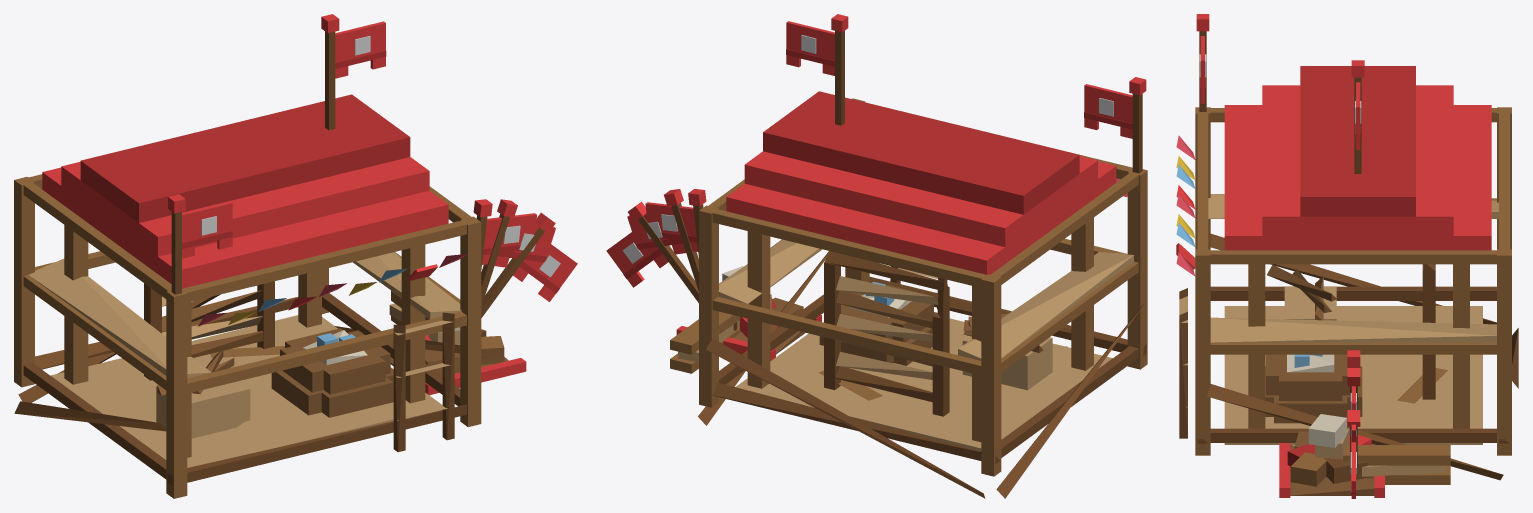
The model's file is robin-research.glb.
3 renders of one model, left to right at view 1: azimuth 30°, elevation 25°; view 2: azimuth 150°, elevation 25°; view 3: azimuth 270°, elevation 25°, orthographic. The views are drawn at different scales.
Visible parts, largest first — view 1: scaffold-mesh, built-mesh, dismantle-50-mesh, dismantle-75-mesh, dismantle-25-mesh, banner, scaffold-banner, dismantle-25-banner, flag-pole, dismantle-50-banner, dismantle-75-banner, dismantle-25-flag-pole (+2 smaller); view 2: built-mesh, scaffold-mesh, dismantle-50-mesh, dismantle-75-mesh, dismantle-25-mesh, banner, scaffold-banner, dismantle-25-banner, dismantle-75-banner, flag-pole, scaffold-flag-pole, dismantle-25-flag-pole (+2 smaller); view 3: built-mesh, scaffold-mesh, dismantle-50-mesh, dismantle-75-mesh, dismantle-25-mesh, flag-pole, scaffold-flag-pole, scaffold-banner, banner.
Part boxes in pixels (x1=…): scaffold-mesh: x1=14, y1=174, x2=481, y2=498; built-mesh: x1=42, y1=94, x2=448, y2=417; dismantle-50-mesh: x1=50, y1=274, x2=526, y2=467; dismantle-75-mesh: x1=64, y1=225, x2=526, y2=438; dismantle-25-mesh: x1=144, y1=290, x2=526, y2=453; banner: x1=335, y1=21, x2=386, y2=78; scaffold-banner: x1=182, y1=201, x2=232, y2=258; dismantle-25-banner: x1=513, y1=242, x2=577, y2=301; flag-pole: x1=321, y1=14, x2=339, y2=130; dismantle-50-banner: x1=494, y1=222, x2=555, y2=272; dismantle-75-banner: x1=482, y1=213, x2=536, y2=264; dismantle-25-flag-pole: x1=481, y1=212, x2=555, y2=317; built-mesh: x1=726, y1=91, x2=1116, y2=451; scaffold-mesh: x1=670, y1=98, x2=1147, y2=498; dismantle-50-mesh: x1=676, y1=269, x2=1112, y2=448; dismantle-75-mesh: x1=676, y1=233, x2=1093, y2=441; dismantle-25-mesh: x1=677, y1=266, x2=1067, y2=441; banner: x1=786, y1=21, x2=834, y2=75; scaffold-banner: x1=1084, y1=84, x2=1132, y2=138; dismantle-25-banner: x1=606, y1=226, x2=668, y2=287; dismantle-75-banner: x1=645, y1=202, x2=698, y2=251; flag-pole: x1=831, y1=14, x2=848, y2=125; scaffold-flag-pole: x1=1129, y1=77, x2=1146, y2=173; dismantle-25-flag-pole: x1=628, y1=201, x2=698, y2=302; built-mesh: x1=1224, y1=66, x2=1491, y2=395; scaffold-mesh: x1=1176, y1=107, x2=1518, y2=484; dismantle-50-mesh: x1=1224, y1=265, x2=1482, y2=497; dismantle-75-mesh: x1=1279, y1=264, x2=1435, y2=497; dismantle-25-mesh: x1=1280, y1=368, x2=1447, y2=494; flag-pole: x1=1351, y1=60, x2=1364, y2=173; scaffold-flag-pole: x1=1196, y1=14, x2=1209, y2=111; scaffold-banner: x1=1199, y1=36, x2=1206, y2=103; banner: x1=1355, y1=82, x2=1361, y2=149.
Bounding box in the file's own units: 2.59 × 1.97 × 1.59.
